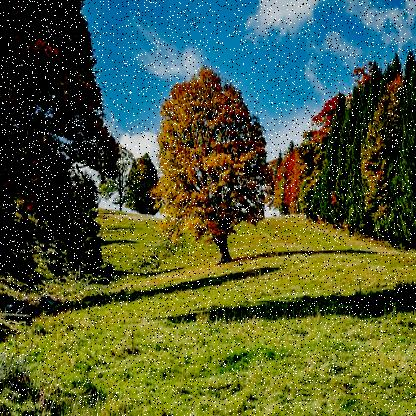Tree: (1, 1, 133, 310), (154, 63, 268, 270), (96, 144, 138, 214), (124, 145, 160, 216), (266, 143, 286, 217)
